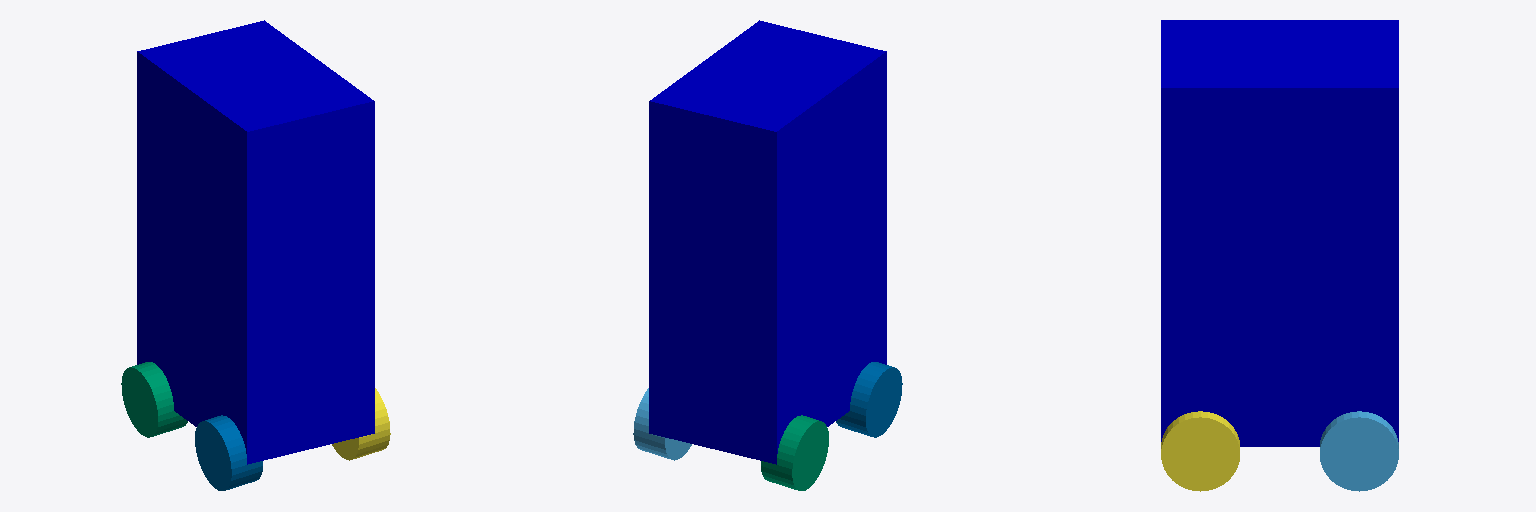
The robot description file, URDF, robot "test_robot":
<?xml version="1.0"?>  
<robot name="test_robot"> 
<!-- material blue and black color  材质 颜色属性-->
  <material name="blue">  
    <color rgba="0 0 .8 1"/>  
<!-- red green blud  Alpha 
R    ：红色值。正整数 0~255 | 百分数
G    ：绿色值。正整数       | 百分数 
B    ：蓝色值。正整数       | 百分数
A    ：透明度。取值0~1之间   0完全透明 看不见  1 完全不透明 传统数字图像
-->
  </material>   
  <material name="back"> 
    <color rgba="0 0 0 1"/>
  </material> 

<!-- 5 link = base_link + 4 wheel 
5个部件
一个基地部件
四个轮子部件
-->

	<!--
	base_link
	一个基地部件
	-->
      <link name="base_link">  
        <visual>  
           <geometry> 
 <!-- 长方体  长宽高尺寸 c k g -->
             <box size="0.2 .3 .5"/> 
           </geometry> 
<!-- 
本部件的坐标系原点 相对于 部件的几何中心 
rpy分别为 绕xyz三轴的旋转角度 逆时针为正 弧度制
xyz分别为 相对几何中心沿着 xyz轴平移的距离
-->
           <origin rpy="0 0 0" xyz="0 0 0.25"/> 
	   <material name="blue"/> 
        </visual>  
      </link>  
      
      <link name="wheel_1">  
        <visual>  
          <geometry>  
            <cylinder length="0.05" radius="0.05"/>  
          </geometry>  
          <origin rpy="0 1.5 0" xyz="0.1 0.1 0"/>  
	  <material name="black"/> 
        </visual>  
      </link>  
      
      <link name="wheel_2">  
        <visual>  
          <geometry>  
            <cylinder length="0.05" radius="0.05"/>  
          </geometry>  
          <origin rpy="0 1.5 0" xyz="-0.1 0.1 0"/> 
	  <material name="black"/>  
        </visual>  
      </link>  
      
      <link name="wheel_3">  
        <visual>  
          <geometry>  
            <cylinder length="0.05" radius="0.05"/>  
          </geometry>  
          <origin rpy="0 1.5 0" xyz="0.1 -0.1 0"/>  
	  <material name="black"/> 
        </visual>  
      </link>  
      
      <link name="wheel_4">  
        <visual>  
          <geometry>  
            <cylinder length="0.05" radius="0.05"/>  
          </geometry>  
          <origin rpy="0 1.5 0" xyz="-0.1 -0.1 0"/>  
	  <material name="black"/> 
        </visual>  
      </link>  

<!-- 4 joint = base_link to 4 wheel -->      
      <joint name="joint_base_wheel1" type="fixed">  
// joint节点名称，type="fixed"表明是固定的连接关系
//  type="continuous"表明是可以持续旋转 0~360度  
//  type="revolute"  表明是可以旋转 0~180度
        <parent link="base_link"/>  
        <child link="wheel_1"/>  
      </joint>  
      
      <joint name="joint_base_wheel2" type="fixed">  
        <parent link="base_link"/>  
        <child link="wheel_2"/>  
      </joint>  
      
      <joint name="joint_base_wheel3" type="fixed">  
        <parent link="base_link"/>  
        <child link="wheel_3"/>  
      </joint>  
      
      <joint name="joint_base_wheel4" type="fixed">  
        <parent link="base_link"/>  
        <child link="wheel_4"/>  
      </joint>  
</robot>  

--- What the picture shows (computed from the rendered views, not written in the file) ---
The picture shows the robot from 3 angles, left to right: view 1: azimuth 30°, elevation 25°; view 2: azimuth 150°, elevation 25°; view 3: azimuth 270°, elevation 25°; orthographic projection.
Model test_robot with 5 links and 4 joints (4 fixed), rooted at base_link, posed all joints at 0.
Links seen in each view (by area): view 1: base_link, wheel_4, wheel_2, wheel_3; view 2: base_link, wheel_2, wheel_4, wheel_1; view 3: base_link, wheel_1, wheel_3.
Link boxes in pixels (x1,y1,x2,y2): base_link: [137, 20, 374, 464]; wheel_4: [195, 415, 262, 490]; wheel_2: [121, 362, 187, 437]; wheel_3: [332, 388, 390, 460]; base_link: [649, 20, 886, 464]; wheel_2: [761, 415, 828, 490]; wheel_4: [836, 362, 902, 437]; wheel_1: [633, 388, 691, 460]; base_link: [1161, 20, 1398, 446]; wheel_1: [1320, 411, 1398, 491]; wheel_3: [1161, 411, 1239, 491].
Size in the robot's own frame: 0.2569 by 0.3 by 0.5516 metres.
Geometry: primitives only (box / cylinder / sphere), no mesh files.
